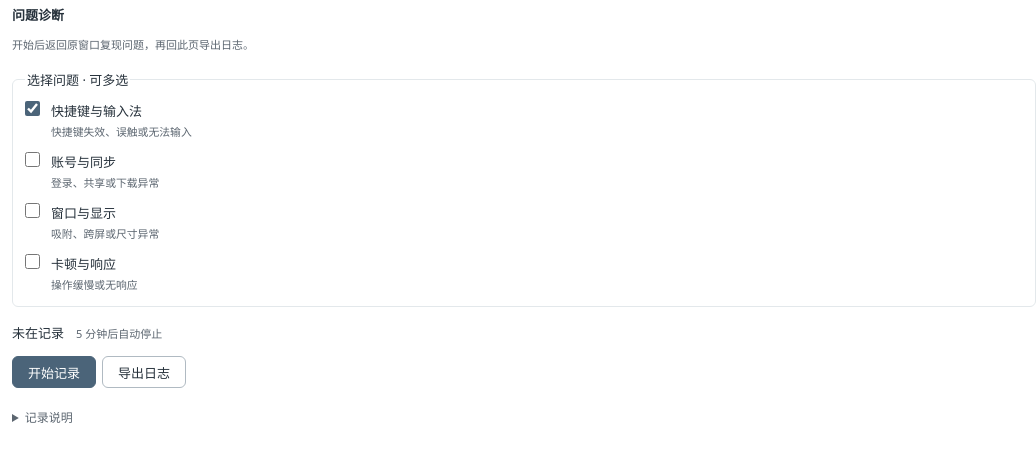
it: 启动失败保持设置窗口打开并可重试
Expected: the text "未在记录" is shown, [12,324,64,342]
Step 1. Click the button "开始记录" → (54, 372), box [12,356,96,388]
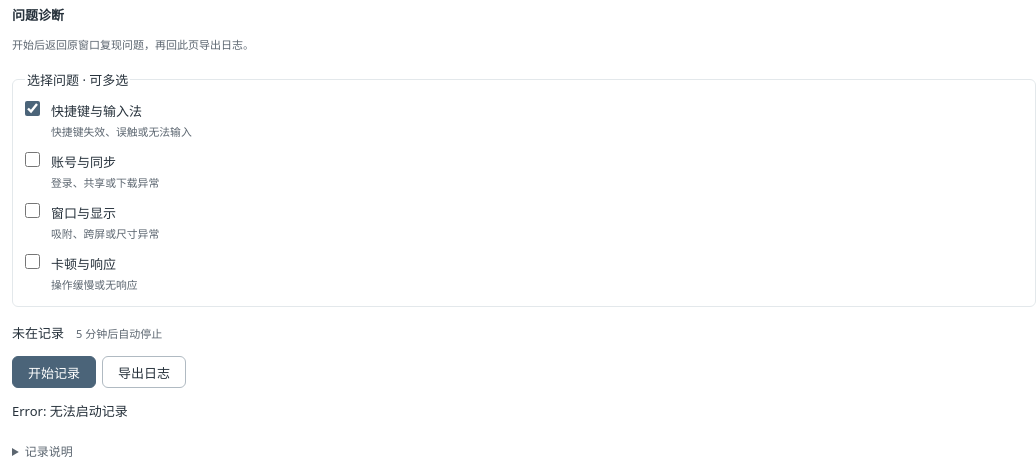
Expected: the message "Error: 无法启动记录" is shown, [12,402,128,420]
